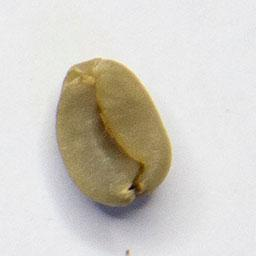premium: (52, 55, 174, 211)
